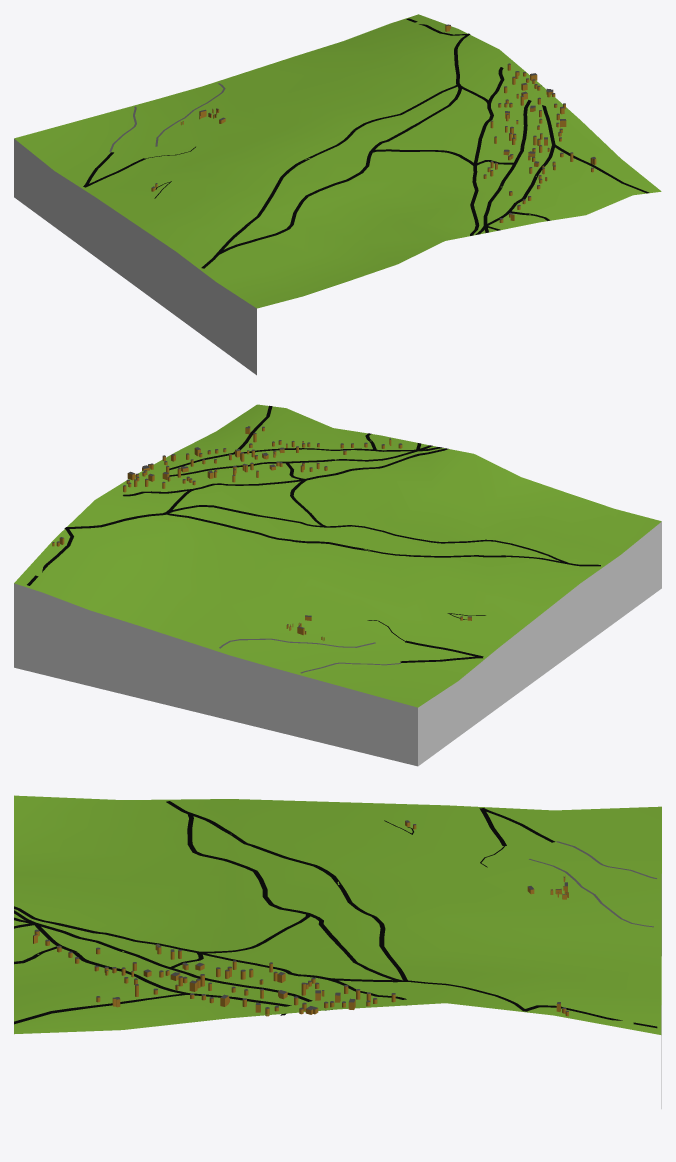
The model's file is tile_00_07.glb.
The picture shows the model from 3 angles, top to bottom: view 1: azimuth 30°, elevation 25°; view 2: azimuth 150°, elevation 25°; view 3: azimuth 270°, elevation 25°; orthographic projection. The views are drawn at different scales.
Visible parts, largest first — view 1: Terrain_00_07, Ub_small.osm_roads_residential_00_07, Ub_small.osm_buildings_00_07; view 2: Terrain_00_07, Ub_small.osm_roads_residential_00_07, Ub_small.osm_buildings_00_07; view 3: Terrain_00_07, Ub_small.osm_roads_residential_00_07, Ub_small.osm_buildings_00_07.
Boxes of the visible parts, <box> form: Terrain_00_07: <box>14,14,661,375</box>; Ub_small.osm_roads_residential_00_07: <box>83,18,649,268</box>; Ub_small.osm_buildings_00_07: <box>151,24,596,222</box>; Terrain_00_07: <box>14,404,661,766</box>; Ub_small.osm_roads_residential_00_07: <box>27,405,600,662</box>; Ub_small.osm_buildings_00_07: <box>52,426,471,640</box>; Terrain_00_07: <box>14,795,661,1108</box>; Ub_small.osm_roads_residential_00_07: <box>14,801,657,1028</box>; Ub_small.osm_buildings_00_07: <box>33,820,568,1016</box>.
Bounding box in the file's own units: 899 × 233 × 930.
